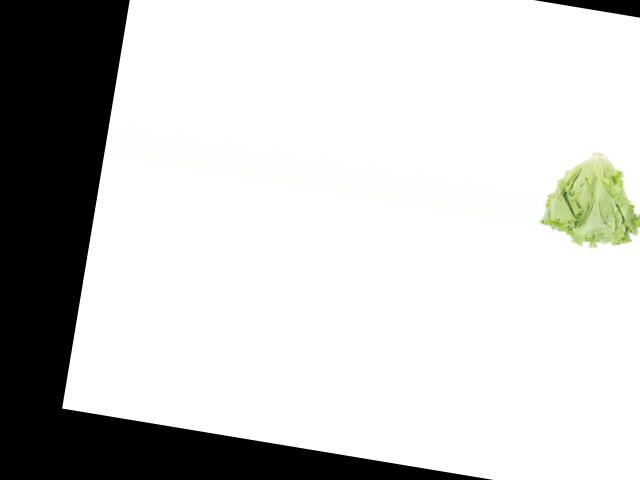lettuce: (534, 142, 640, 259)
